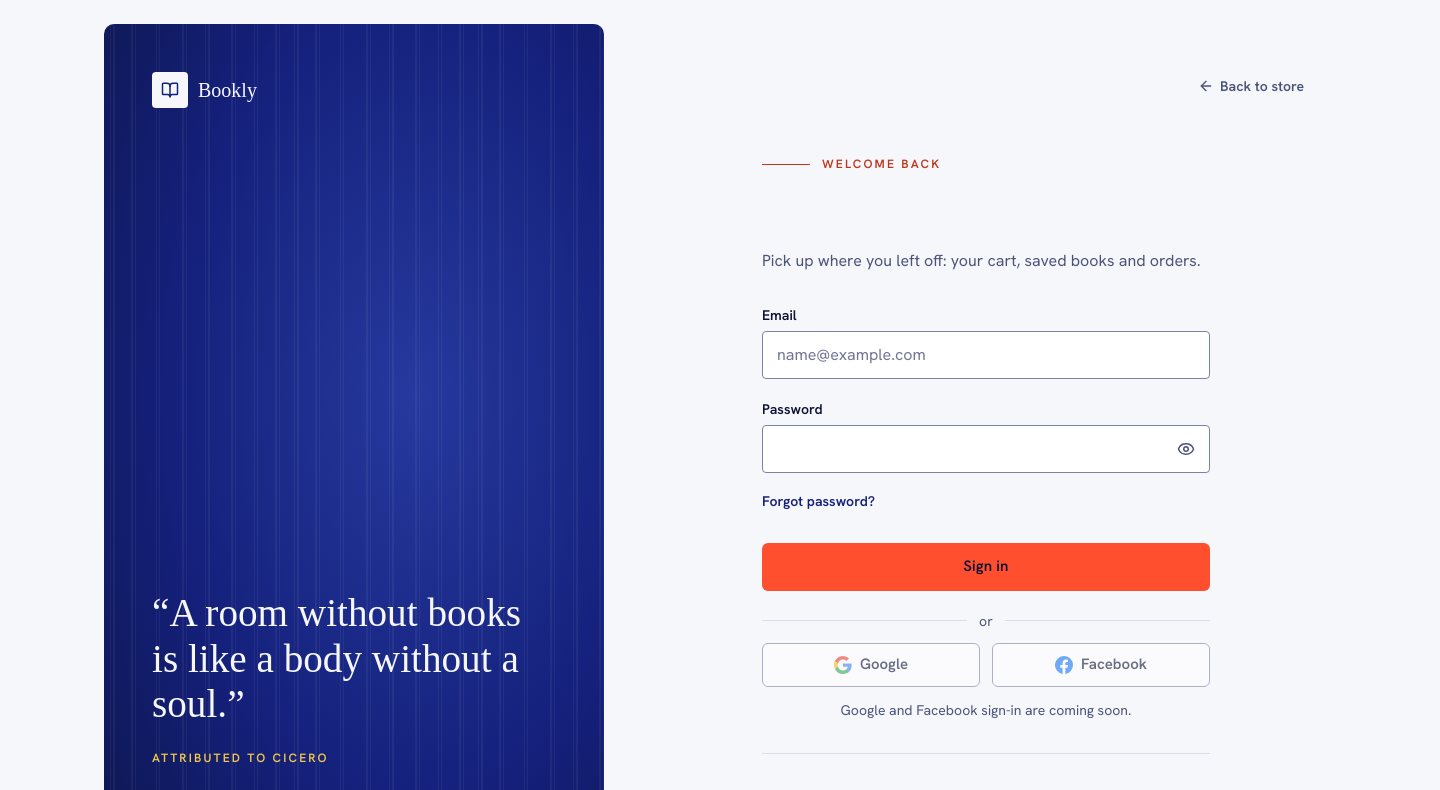
Test: LoginPage › validates before sending anything
Click the button "Sign in" at (986, 567), box left=762, top=543, right=1210, bottom=591
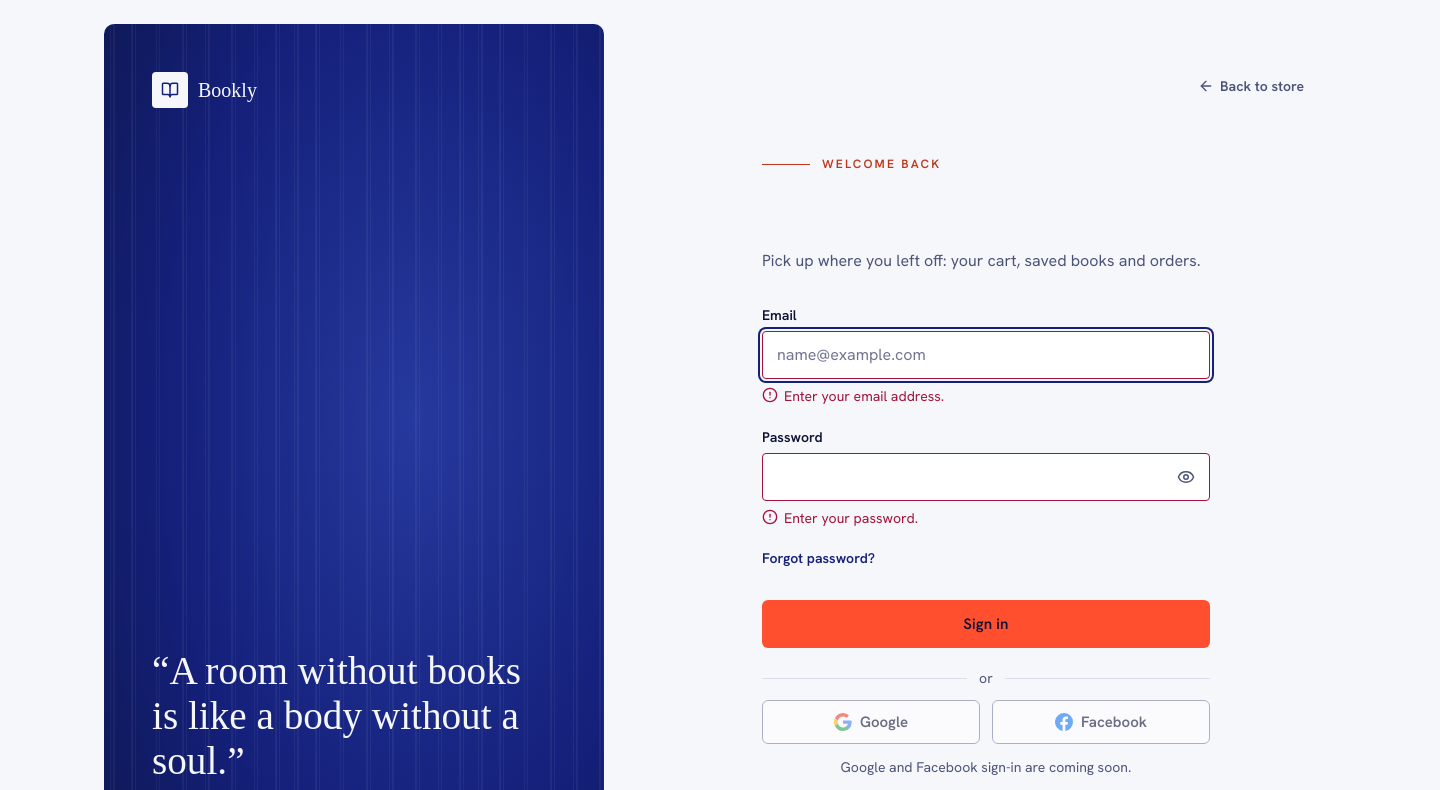
Expected: the text "Enter your email address." is shown, left=784, top=385, right=944, bottom=408
Expected: the text "Enter your password." is shown, left=784, top=507, right=918, bottom=530
